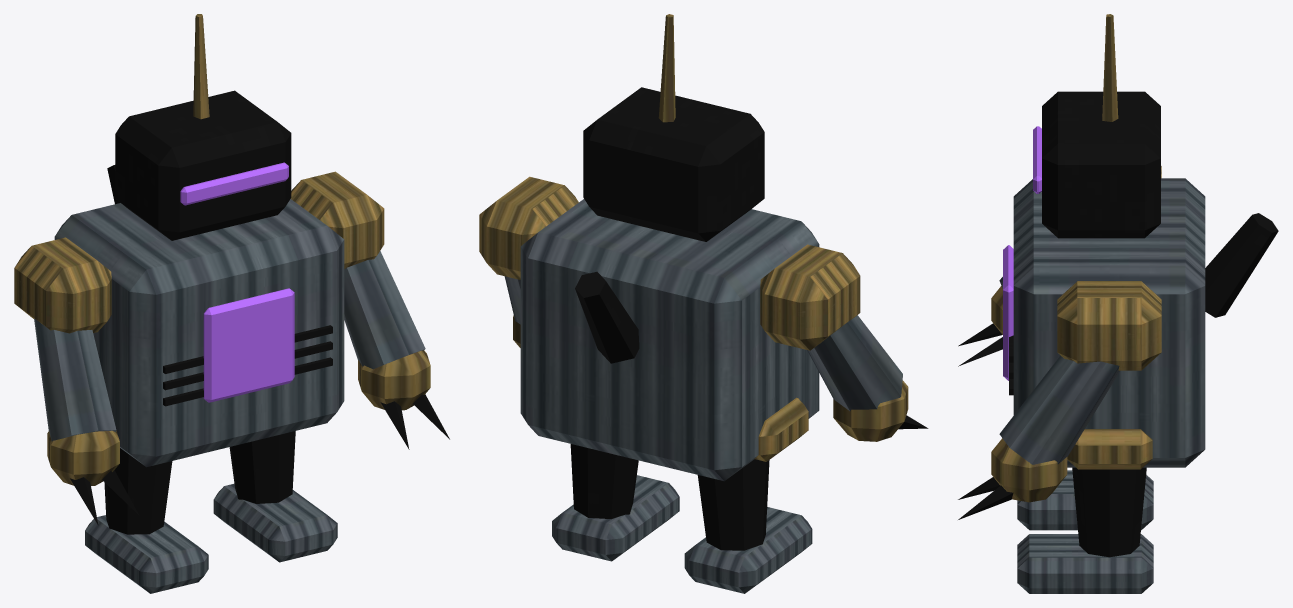
File: mon_cons_01.glb
The picture shows the model from 3 angles, left to right: view 1: azimuth 30°, elevation 25°; view 2: azimuth 150°, elevation 25°; view 3: azimuth 270°, elevation 25°; orthographic projection. The views are drawn at different scales.
Visible parts, largest first — view 1: mon_cons_01; view 2: mon_cons_01; view 3: mon_cons_01.
Boxes of the visible parts, left/top/right/bottom form: mon_cons_01: left=14, top=14, right=449, bottom=593; mon_cons_01: left=479, top=14, right=928, bottom=593; mon_cons_01: left=958, top=14, right=1278, bottom=593.
Size of the model in its own units: 0.6586 by 0.8839 by 0.4814.
Materials: 4 (4 with a texture image).
